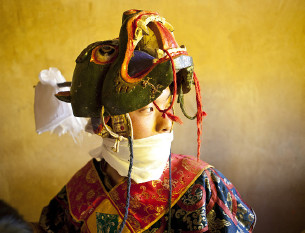face_mask: (118, 84, 175, 164)
